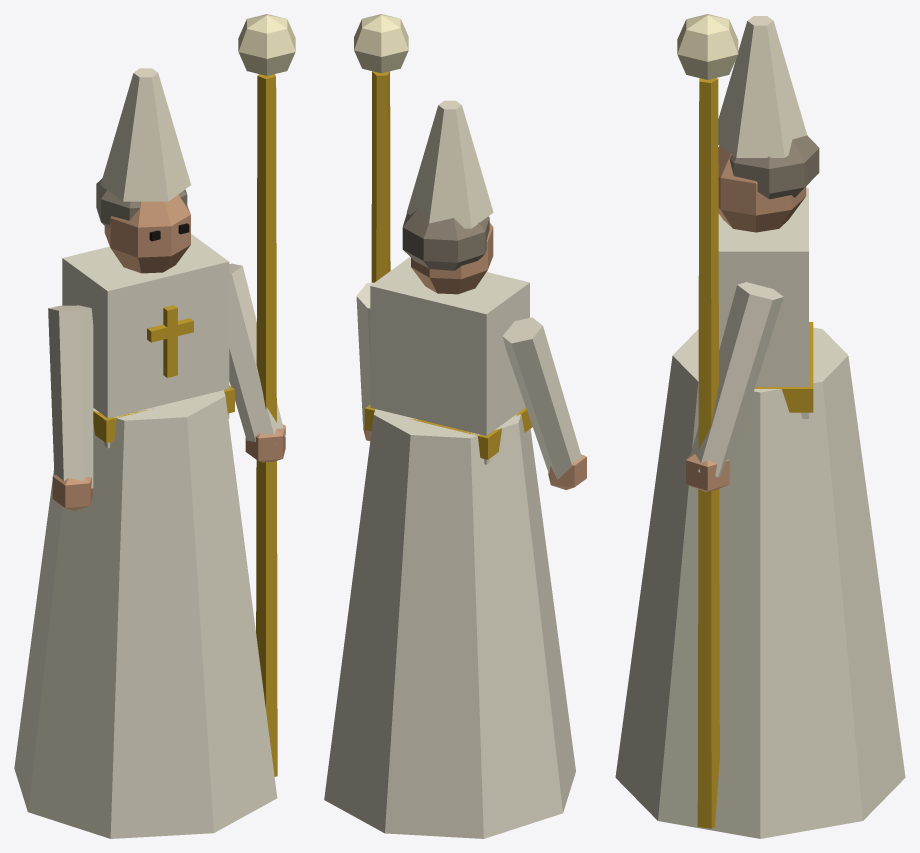
The model's file is priester.glb.
The picture shows the model from 3 angles, left to right: view 1: azimuth 30°, elevation 25°; view 2: azimuth 150°, elevation 25°; view 3: azimuth 270°, elevation 25°; orthographic projection. The views are drawn at different scales.
Bounding box in the file's own units: 0.68 × 2.04 × 0.66.
1 material, 1 textured.
